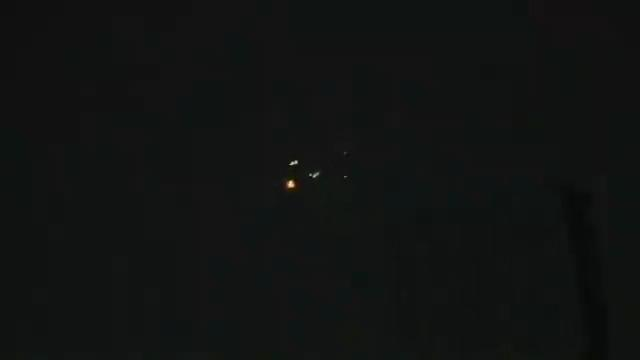Plane: (250, 147, 342, 203)
